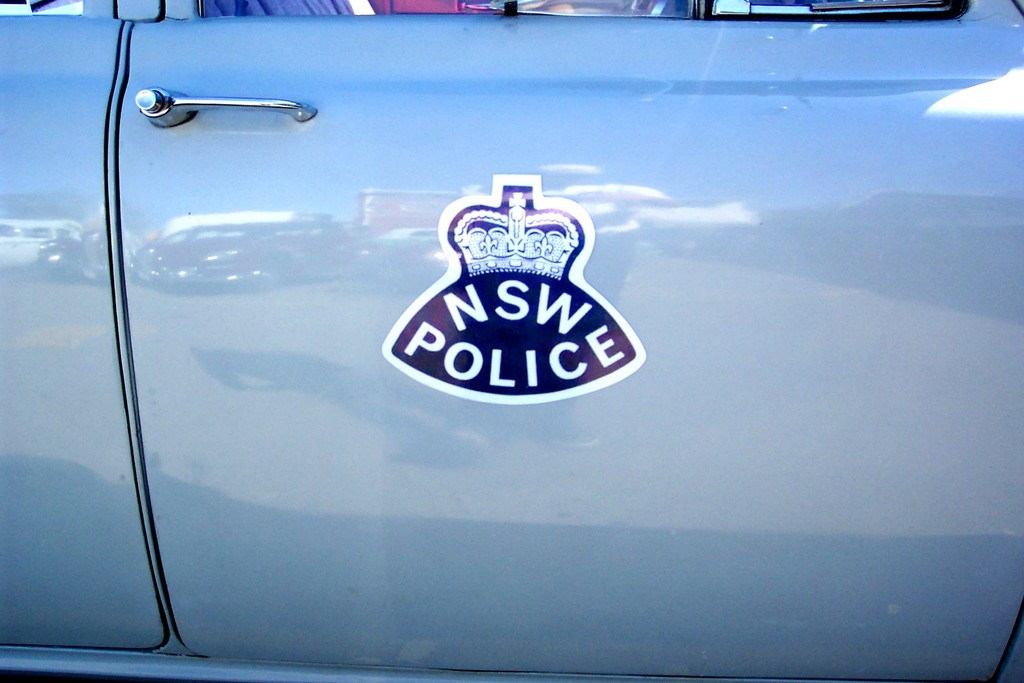Car: (0, 0, 979, 659)
